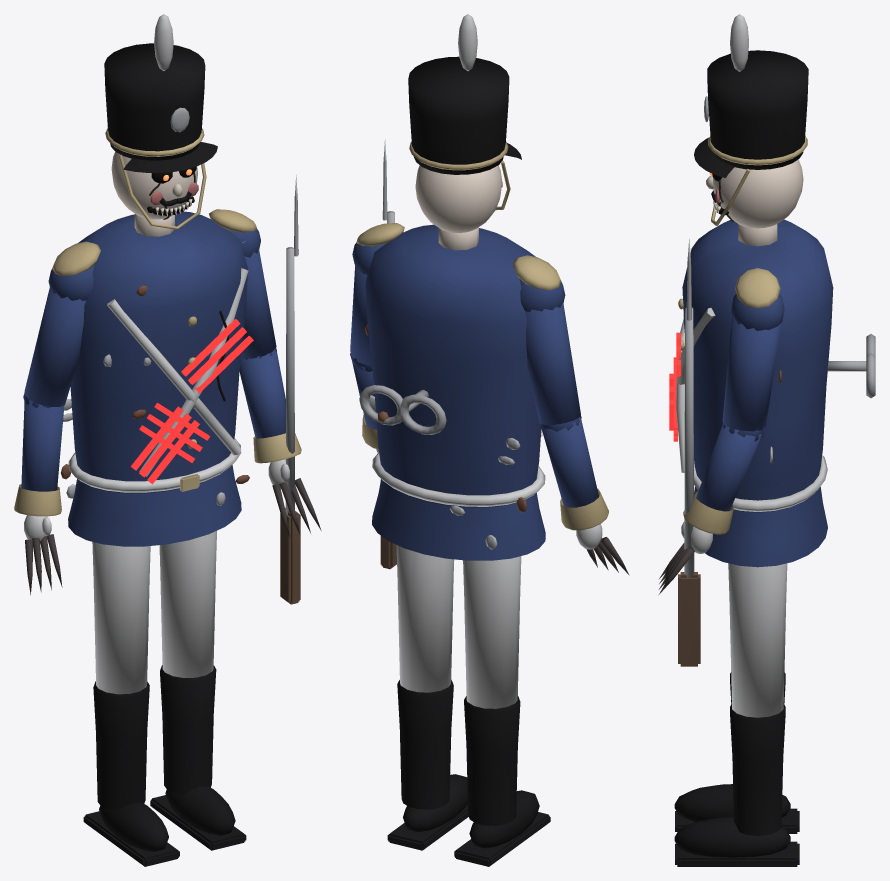
Rendered from broken_soldier.glb.
3 views of the same model, side by side, from view 1: azimuth 30°, elevation 25°; view 2: azimuth 150°, elevation 25°; view 3: azimuth 270°, elevation 25° (orthographic).
Visible parts, largest first — view 1: Soldier_Root_TinBlue, Head_PaintBlack, LegB_PaintBlack, LegA_PaintBlack, ArmA_TinBlue, LegLegA, LegLegB, ArmB_TinBlue, Soldier_Root_PaintWhite, Soldier_Root_HWound, Head_TinFace, ArmB_BareTin (+7 smaller); view 2: Soldier_Root_TinBlue, Head_PaintBlack, ArmA_TinBlue, LegA_PaintBlack, LegB_PaintBlack, LegLegA, LegLegB, Head_TinFace, ArmB_TinBlue, ArmA_PaintGold, Soldier_Root_PaintWhite, Spin_WindKey_BareTin (+5 smaller); view 3: Soldier_Root_TinBlue, LegB_PaintBlack, Head_PaintBlack, ArmB_TinBlue, LegLegB, Head_TinFace, ArmB_BareTin, LegA_PaintBlack, ArmB_PaintGold, Soldier_Root_PaintWhite, Stock, Spin_WindKey_BareTin (+5 smaller).
Boxes of the visible parts, box(x1,y1,x2,y2) form: Soldier_Root_TinBlue: box(68, 211, 247, 546); Head_PaintBlack: box(104, 43, 217, 206); LegB_PaintBlack: box(150, 665, 246, 850); LegA_PaintBlack: box(83, 681, 179, 866); ArmA_TinBlue: box(21, 265, 94, 491); LegLegA: box(92, 542, 150, 694); LegLegB: box(159, 531, 216, 677); ArmB_TinBlue: box(227, 229, 285, 438); Soldier_Root_PaintWhite: box(68, 268, 248, 492); Soldier_Root_HWound: box(131, 319, 253, 484); Head_TinFace: box(111, 152, 197, 236); ArmB_BareTin: box(285, 175, 298, 514); Soldier_Root_TinBlue: box(365, 224, 545, 560); Head_PaintBlack: box(408, 56, 521, 174); ArmA_TinBlue: box(519, 278, 598, 507); LegA_PaintBlack: box(454, 695, 550, 866); LegB_PaintBlack: box(387, 680, 468, 850); LegLegA: box(463, 556, 521, 708); LegLegB: box(396, 545, 454, 692); Head_TinFace: box(415, 165, 502, 250); ArmB_TinBlue: box(350, 243, 385, 429); ArmA_PaintGold: box(513, 255, 608, 530); Soldier_Root_PaintWhite: box(372, 429, 545, 506); Spin_WindKey_BareTin: box(359, 385, 446, 434); Soldier_Root_TinBlue: box(682, 219, 833, 567); LegB_PaintBlack: box(674, 704, 799, 866); Head_PaintBlack: box(694, 50, 808, 202); ArmB_TinBlue: box(696, 293, 784, 511); LegLegB: box(728, 563, 787, 717); Head_TinFace: box(706, 159, 803, 246); ArmB_BareTin: box(684, 239, 694, 578); LegA_PaintBlack: box(674, 672, 799, 833); ArmB_PaintGold: box(683, 268, 780, 534); Soldier_Root_PaintWhite: box(676, 308, 827, 511); Stock: box(678, 572, 700, 666); Spin_WindKey_BareTin: box(827, 334, 875, 398).
Size of the model in its own units: 0.6809 by 2 by 0.4759.
